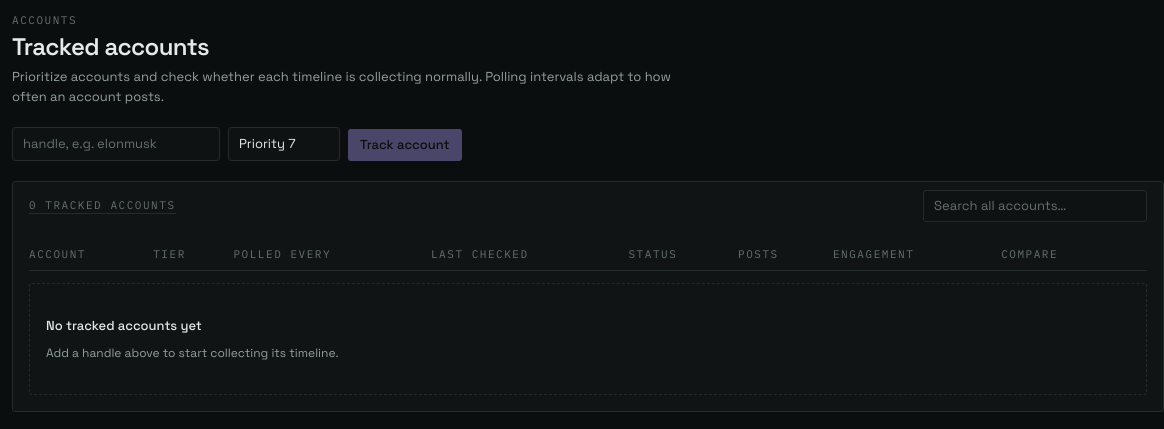
Test case: tracking a new account › keeps Track disabled until a handle is entered
Expected: the button "Track account" is disabled, [348, 128, 462, 160]
Type "elonmusk" into the field named "Account handle" at coordinates (116, 144), box [12, 126, 220, 160]
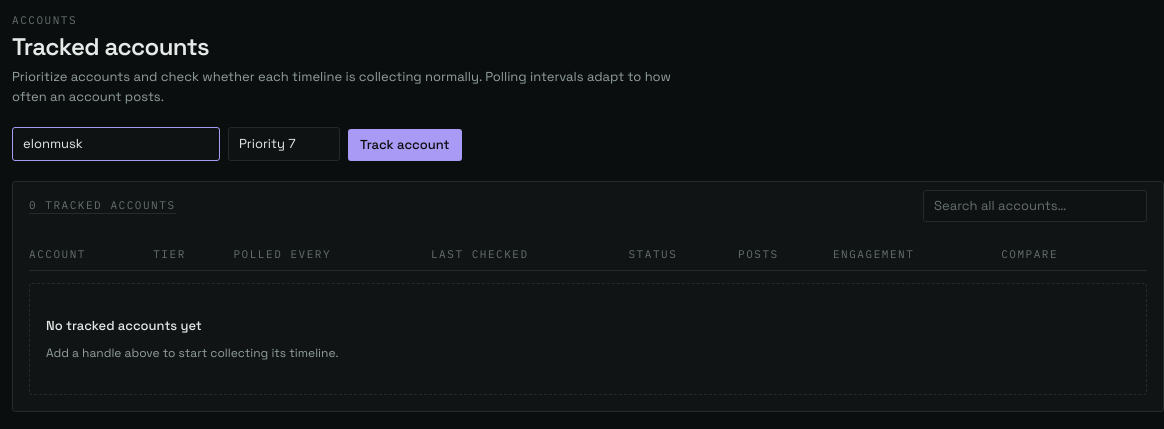
Now the button "Track account" is enabled, box [348, 128, 462, 160]
